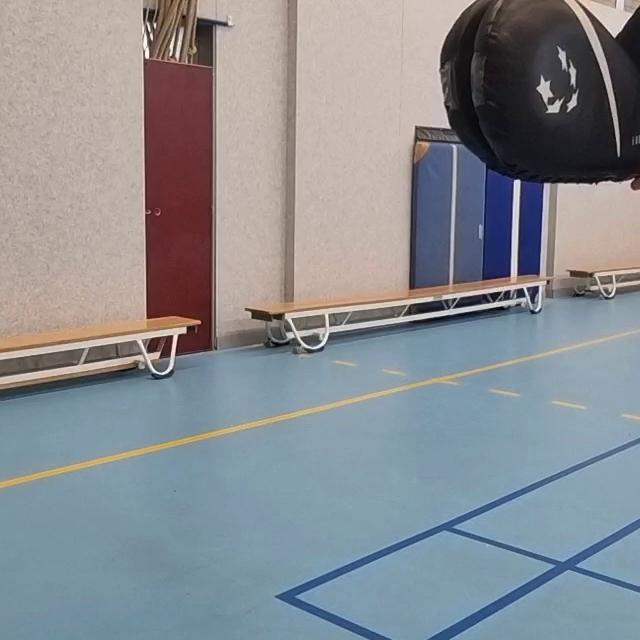paddle: (435, 0, 640, 189)
